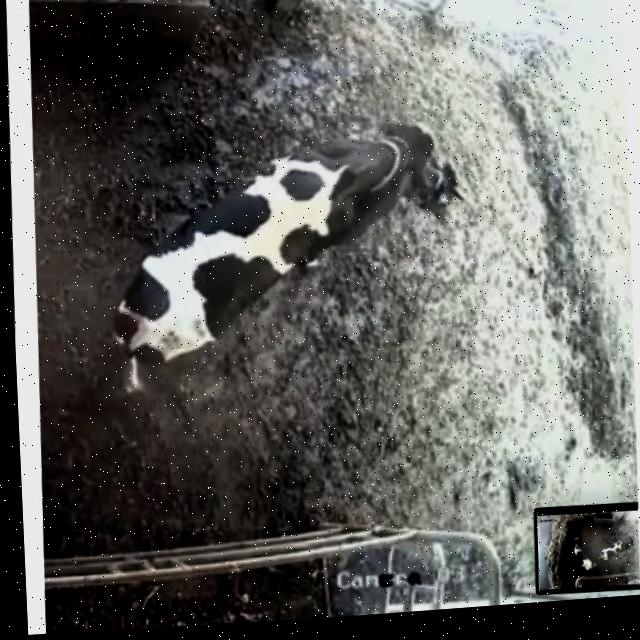ride: (70, 99, 445, 391)
